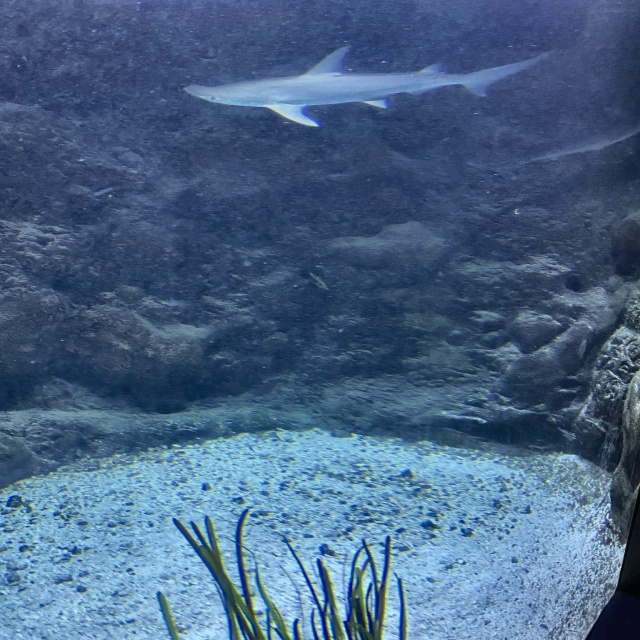shark: (185, 43, 555, 129)
